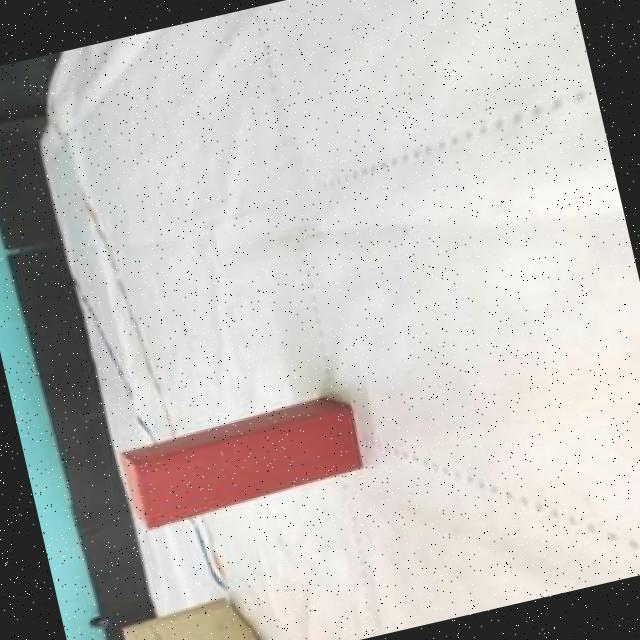redbox: (110, 393, 368, 532)
